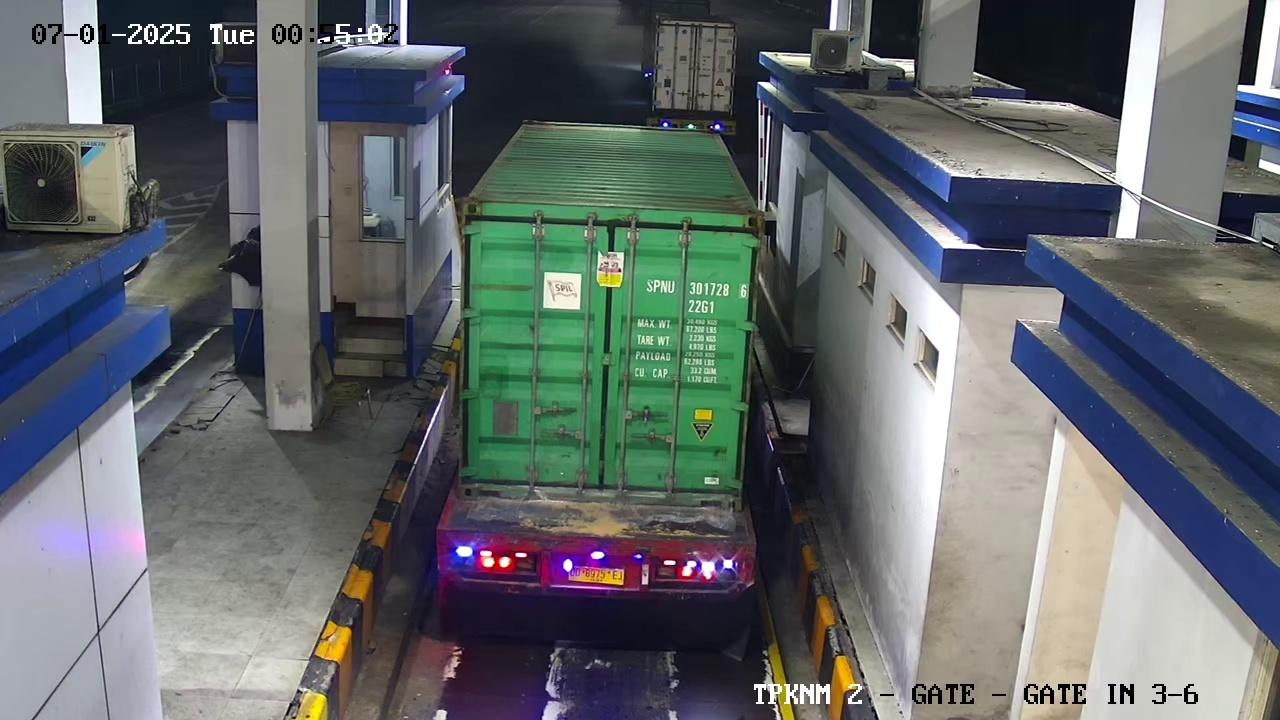Container_ID: (633, 272, 757, 302)
plate_number: (567, 557, 635, 585)
